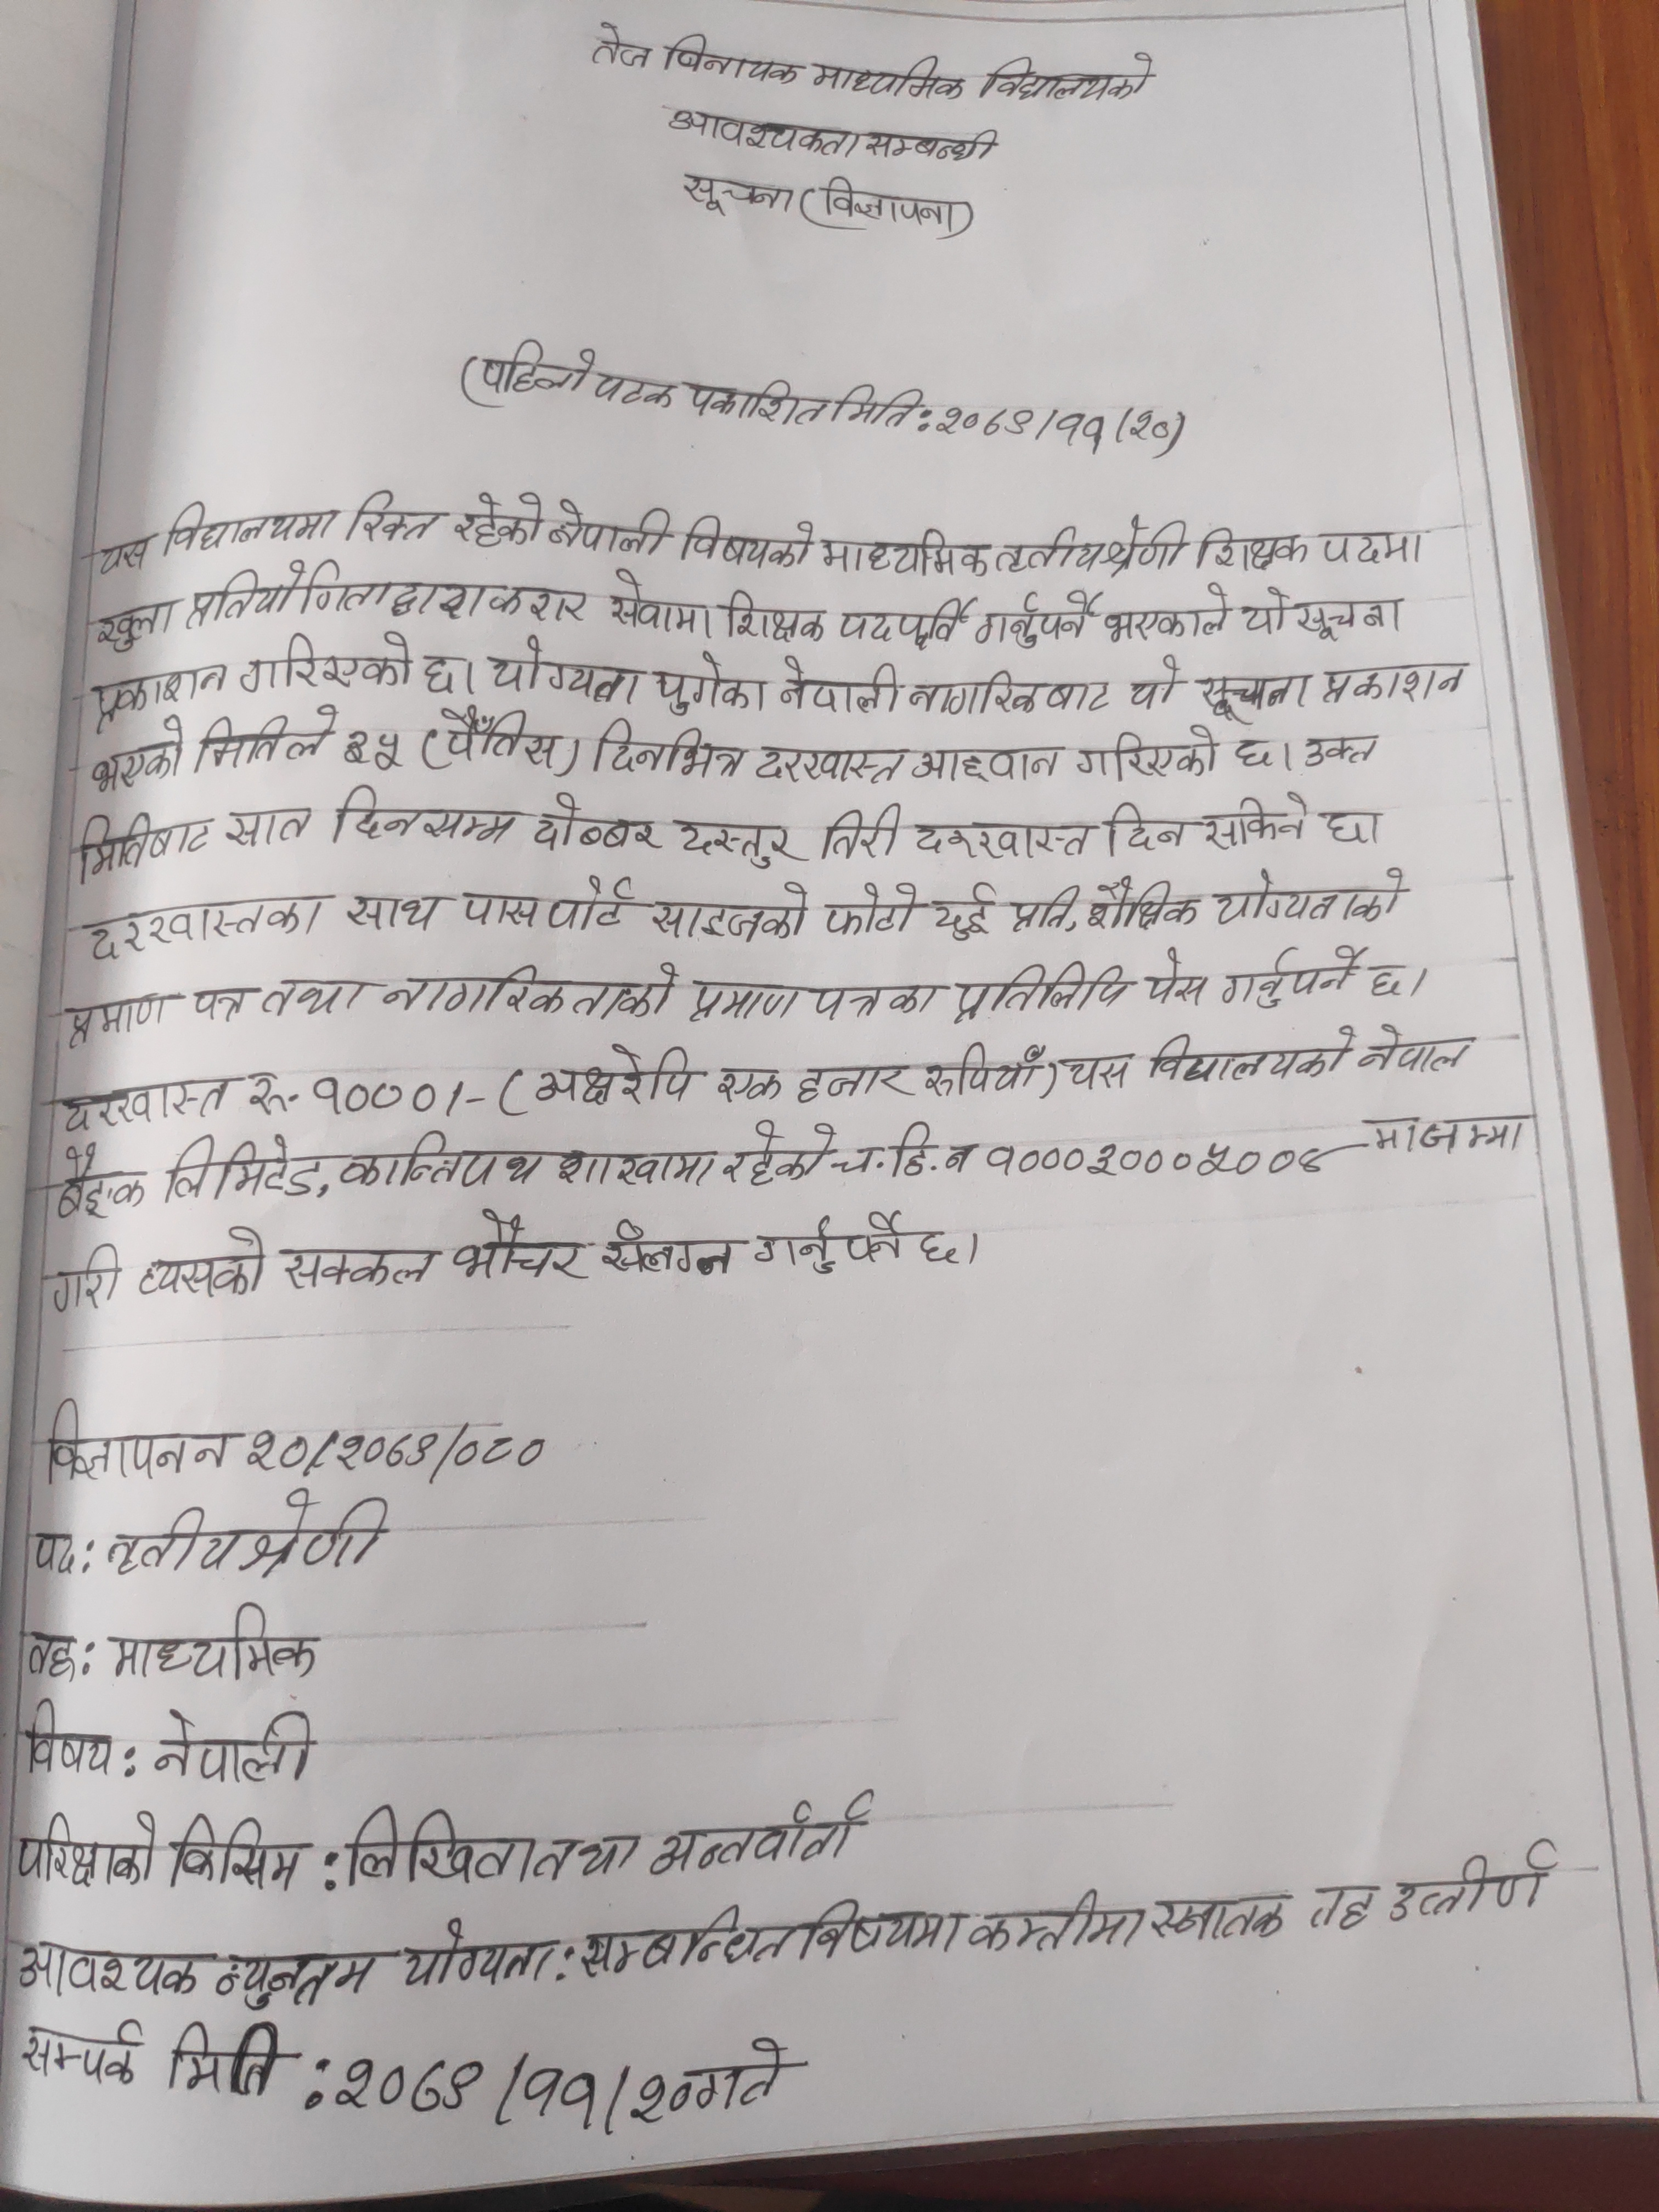text: (579, 1898, 972, 1993), (336, 2057, 690, 2137), (101, 1487, 396, 1578), (340, 1129, 720, 1191), (382, 958, 678, 1024), (648, 1791, 877, 1876), (181, 566, 493, 624), (80, 892, 326, 960), (40, 1399, 232, 1482), (1384, 1838, 1553, 1928), (985, 1139, 1366, 1179), (347, 1808, 540, 1886), (242, 1428, 549, 1477), (152, 1705, 326, 1785), (12, 1935, 202, 2006), (12, 1808, 162, 1897), (969, 1886, 1148, 1959), (169, 1810, 307, 1902), (687, 977, 938, 1028), (1216, 866, 1413, 928), (234, 631, 420, 697), (399, 1916, 563, 1991), (530, 1043, 706, 1113), (948, 956, 1133, 1022), (744, 1205, 913, 1277), (213, 1947, 387, 2015), (1154, 1029, 1354, 1087), (160, 1134, 321, 1205), (934, 402, 1168, 451), (333, 786, 519, 846), (484, 639, 647, 709), (192, 702, 342, 775), (451, 1211, 591, 1289), (594, 714, 749, 782), (73, 810, 216, 883), (457, 874, 638, 932), (667, 108, 859, 162), (164, 2020, 291, 2101), (650, 880, 812, 942), (1220, 942, 1363, 1010), (134, 1226, 263, 1301), (58, 1075, 232, 1129), (19, 2017, 145, 2092), (816, 531, 992, 583), (310, 1071, 491, 1122), (904, 671, 1114, 714), (976, 52, 1159, 101), (911, 812, 1093, 860), (1075, 721, 1223, 780), (547, 496, 678, 563), (164, 500, 335, 550), (437, 702, 563, 770), (835, 1122, 978, 1181), (647, 653, 769, 721), (533, 792, 664, 855), (777, 653, 901, 719), (598, 1219, 735, 1278), (688, 2033, 795, 2109), (606, 570, 720, 641), (274, 1240, 439, 1289), (678, 516, 816, 573), (821, 176, 962, 232), (1105, 580, 1234, 641), (23, 1698, 119, 1780), (84, 719, 188, 794), (807, 52, 967, 101), (660, 33, 800, 89), (830, 596, 972, 650), (721, 1122, 835, 1190), (667, 812, 796, 871), (974, 590, 1101, 650), (49, 1150, 152, 1221), (903, 740, 1065, 786), (1150, 1893, 1295, 1944), (920, 1043, 1046, 1101), (688, 378, 826, 430), (1324, 660, 1469, 709), (89, 664, 232, 712), (756, 740, 910, 786), (1084, 876, 1201, 934), (1202, 791, 1314, 850), (481, 341, 598, 397), (1197, 671, 1314, 726), (1358, 1026, 1481, 1076), (47, 1244, 127, 1318), (725, 585, 828, 643), (681, 171, 796, 221), (1312, 526, 1434, 571), (260, 974, 373, 1022), (1415, 1109, 1528, 1158), (63, 995, 167, 1047), (795, 1064, 908, 1111), (451, 491, 544, 549), (538, 1832, 643, 1883), (995, 524, 1103, 573), (1103, 799, 1194, 857), (1195, 526, 1309, 571), (824, 883, 924, 934), (349, 491, 444, 543), (1293, 596, 1403, 641), (488, 580, 592, 627), (821, 801, 903, 860), (861, 129, 1006, 162), (1105, 517, 1190, 573), (223, 799, 317, 850), (1141, 946, 1215, 1010), (92, 597, 173, 655), (342, 890, 446, 934), (927, 881, 997, 944), (587, 368, 683, 413), (835, 383, 924, 430), (1302, 1881, 1377, 1937), (587, 19, 657, 75), (1012, 881, 1077, 937), (1124, 655, 1187, 711), (242, 1066, 305, 1122), (1354, 1109, 1419, 1163), (342, 728, 410, 779), (1304, 730, 1384, 772), (30, 1527, 84, 1585), (1237, 587, 1293, 639), (714, 1064, 784, 1106), (1063, 1054, 1134, 1094), (96, 531, 155, 578), (190, 984, 251, 1024), (1321, 799, 1370, 848), (915, 1226, 964, 1275), (422, 650, 469, 700), (1230, 735, 1279, 780), (1359, 961, 1405, 1000)
